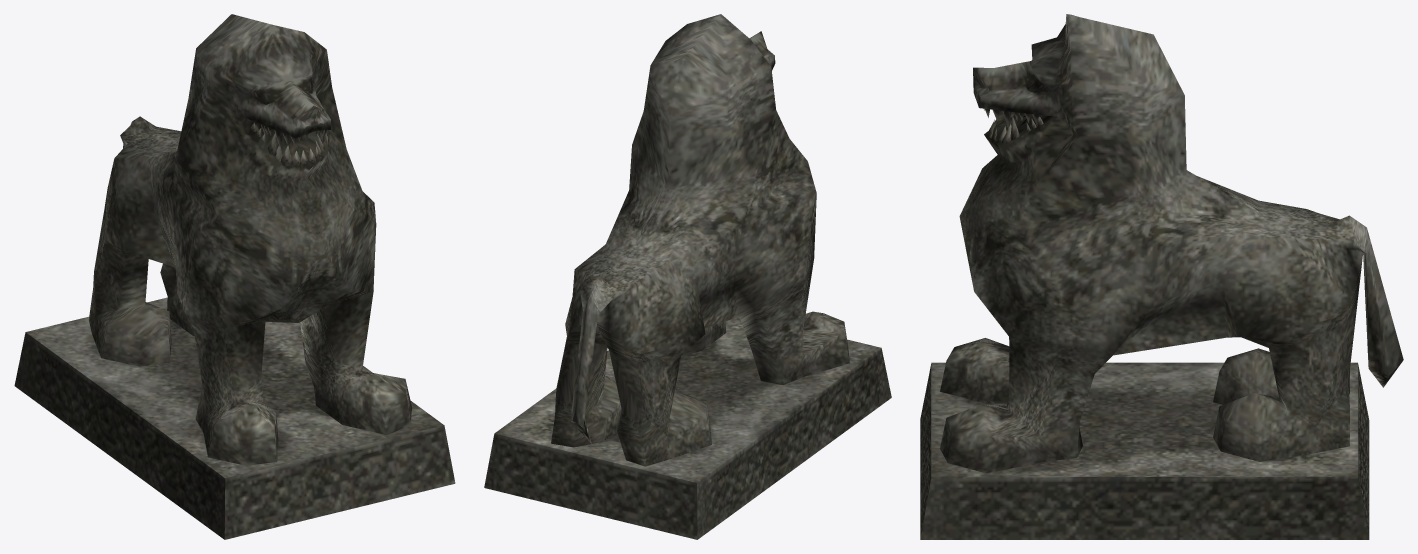
The model's file is ep_obj_lionstoneimage.fbx.
3 renders of one model, left to right at view 1: azimuth 30°, elevation 25°; view 2: azimuth 150°, elevation 25°; view 3: azimuth 270°, elevation 25°, orthographic. The views are drawn at different scales.
Visible parts, largest first — view 1: ep_obj_lionstoneimage; view 2: ep_obj_lionstoneimage; view 3: ep_obj_lionstoneimage.
Part boxes in pixels (<box>): ep_obj_lionstoneimage: <box>14,14,455,539</box>; ep_obj_lionstoneimage: <box>484,14,891,539</box>; ep_obj_lionstoneimage: <box>920,14,1403,539</box>.
Bounding box in the file's own units: 2.77 × 5.01 × 4.71.
